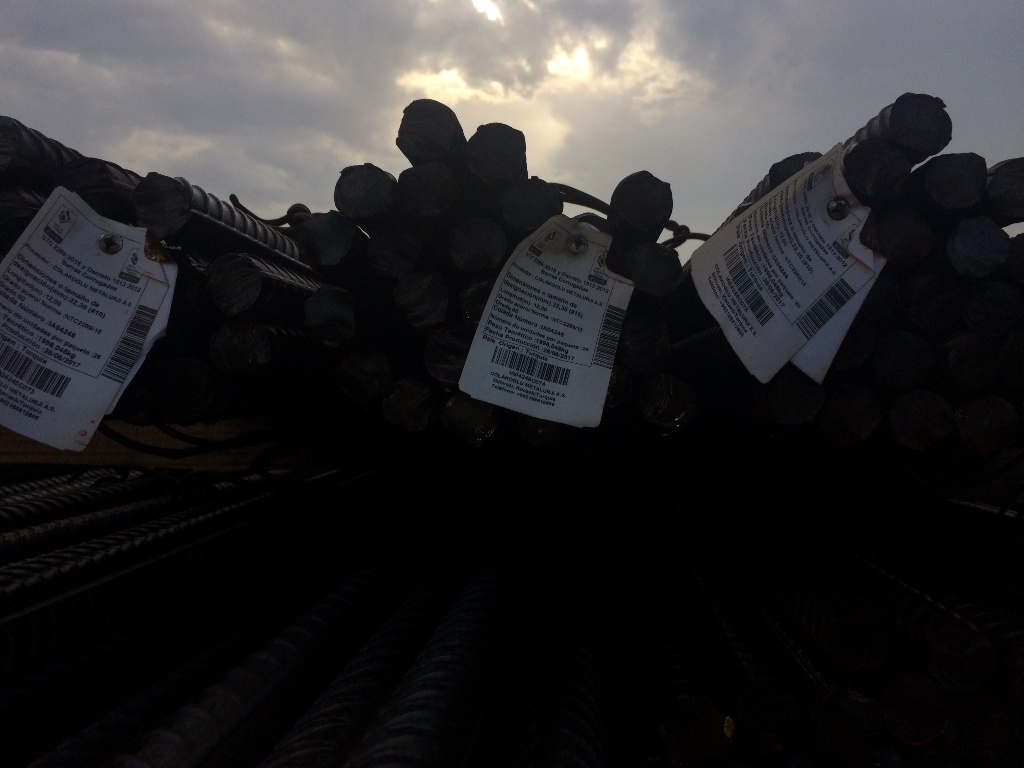dipstick: (334, 162, 398, 225), (133, 170, 192, 238), (395, 97, 459, 157), (613, 170, 672, 235), (948, 217, 1009, 277), (891, 91, 948, 152), (464, 122, 528, 176), (934, 152, 989, 212), (995, 158, 1024, 212), (285, 202, 311, 227)
